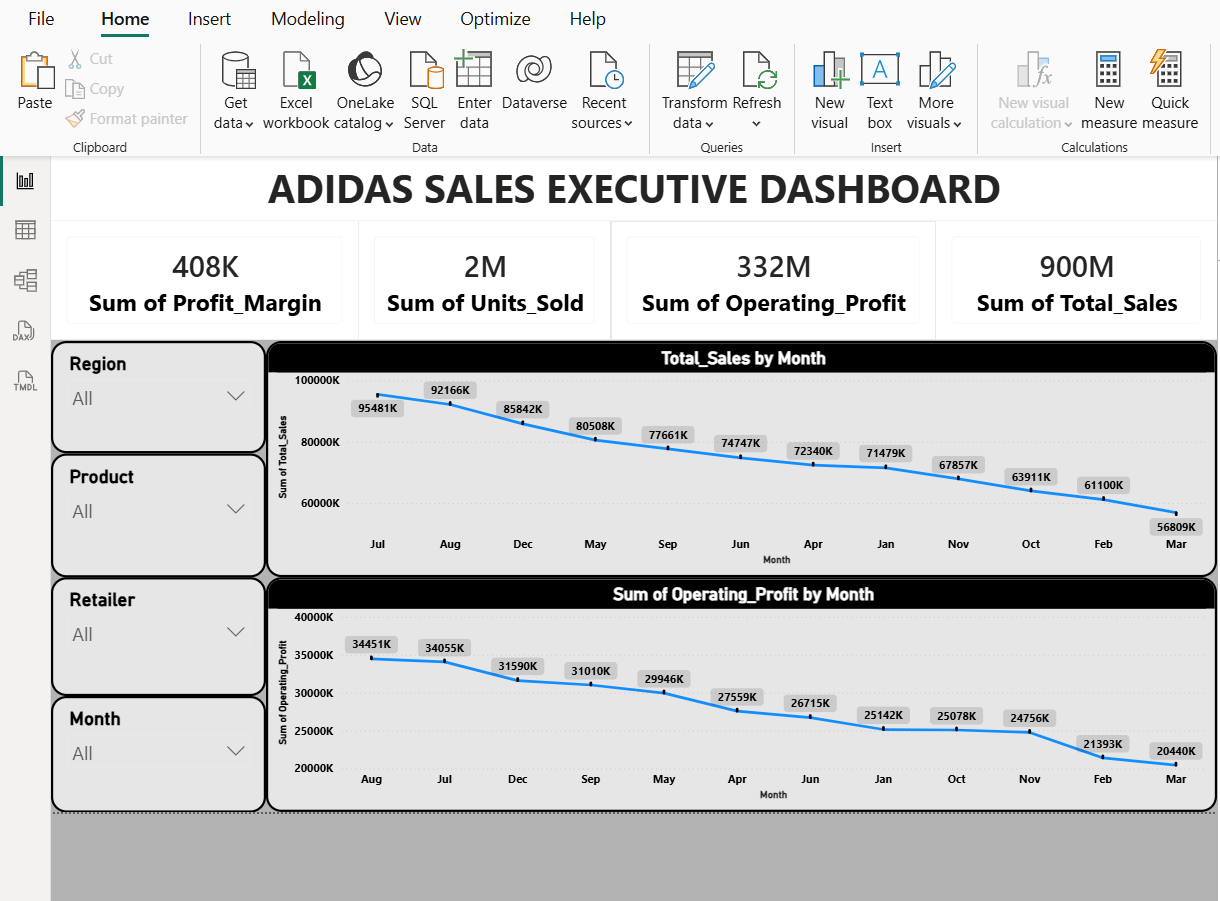

The dashboard page shown, as its layout file describes it:
{"tool":"powerbi","page":{"name":"Page 1","canvas":[1280,720],"ordinal":0},"visuals":[{"type":"textbox","box":[0,0,1280.3,70.9],"z":0},{"type":"cardVisual","fields":{"Data":["Sum(adidas_sales.Total_Sales)"]},"box":[971.5,71.4,308.7,130.4],"z":1000},{"type":"cardVisual","fields":{"Data":["Sum(adidas_sales.Operating_Profit)"]},"box":[614.8,71.4,356.8,130.4],"z":2000},{"type":"cardVisual","fields":{"Data":["Sum(adidas_sales.Units_Sold)"]},"box":[337.6,71.4,277.2,130.4],"z":3000},{"type":"cardVisual","fields":{"Data":["Sum(adidas_sales.Profit_Margin)"]},"box":[0,71.4,337.6,130.4],"z":4000},{"type":"lineChart","title":"Total_Sales by Month","fields":{"Category":["DateTable.Month"],"Y":["Sum(adidas_sales.Total_Sales)"]},"box":[236,203.1,1044.3,259.3],"z":5000},{"type":"lineChart","fields":{"Category":["DateTable.Month"],"Y":["Sum(adidas_sales.Operating_Profit)"]},"box":[236,462.4,1044.3,258],"z":6000},{"type":"slicer","fields":{"Values":["adidas_sales.Region"]},"box":[0,203.1,236,123.5],"z":7000},{"type":"slicer","fields":{"Values":["adidas_sales.Product"]},"box":[0,326.6,236,135.8],"z":8000},{"type":"slicer","fields":{"Values":["DateTable.Month"]},"box":[0,592.8,236,127.6],"z":9000},{"type":"slicer","fields":{"Values":["adidas_sales.Retailer"]},"box":[0,462.4,236,130.4],"z":10000}]}

Visuals, with their boxes in screenshot pixels (x1, y1, x2, y2):
textbox: {"x1": 48, "y1": 152, "x2": 1208, "y2": 217}
cardVisual - Sum(adidas_sales.Total_Sales): {"x1": 928, "y1": 217, "x2": 1208, "y2": 335}
cardVisual - Sum(adidas_sales.Operating_Profit): {"x1": 605, "y1": 217, "x2": 929, "y2": 335}
cardVisual - Sum(adidas_sales.Units_Sold): {"x1": 354, "y1": 217, "x2": 605, "y2": 335}
cardVisual - Sum(adidas_sales.Profit_Margin): {"x1": 48, "y1": 217, "x2": 354, "y2": 335}
"Total_Sales by Month" lineChart: {"x1": 262, "y1": 337, "x2": 1208, "y2": 572}
lineChart - DateTable.Month x Sum(adidas_sales.Operating_Profit): {"x1": 262, "y1": 572, "x2": 1208, "y2": 806}
slicer - adidas_sales.Region: {"x1": 48, "y1": 337, "x2": 262, "y2": 449}
slicer - adidas_sales.Product: {"x1": 48, "y1": 449, "x2": 262, "y2": 572}
slicer - DateTable.Month: {"x1": 48, "y1": 690, "x2": 262, "y2": 806}
slicer - adidas_sales.Retailer: {"x1": 48, "y1": 572, "x2": 262, "y2": 690}
